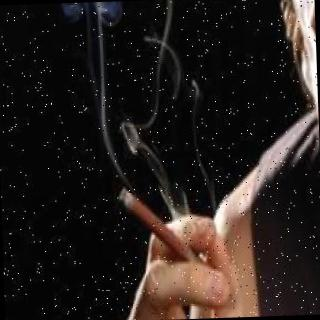smoke: (0, 0, 203, 14)
